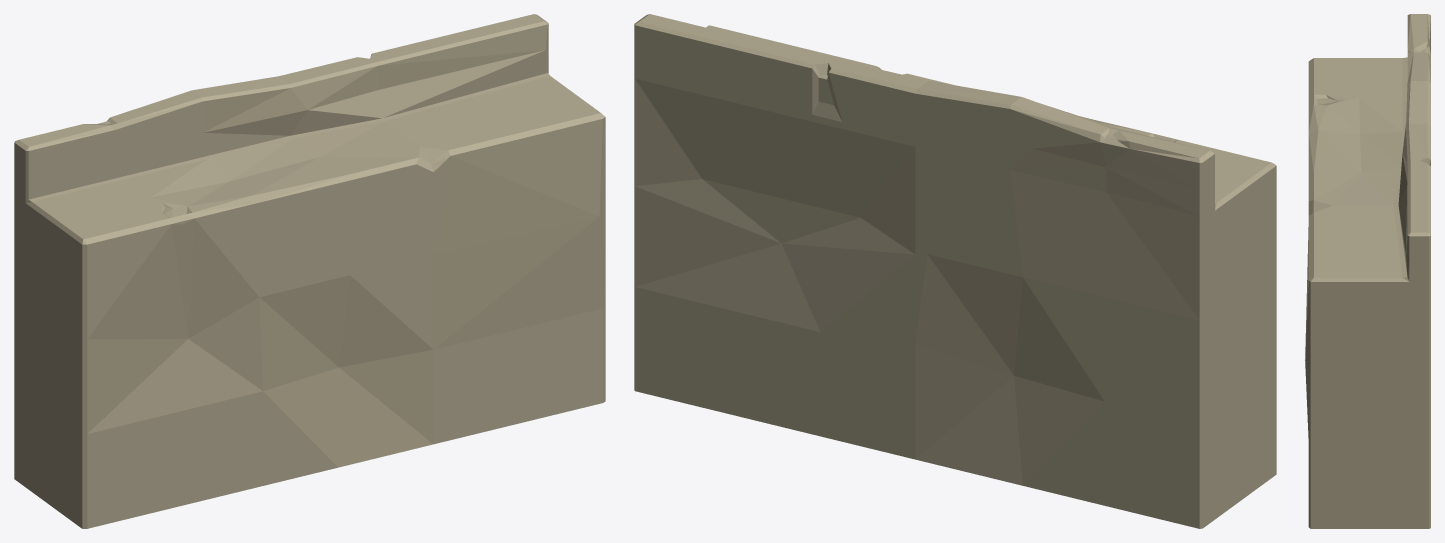
File: Wall_small_1.fbx
3 views of the same model, side by side, from view 1: azimuth 30°, elevation 25°; view 2: azimuth 150°, elevation 25°; view 3: azimuth 270°, elevation 25° (orthographic). The views are drawn at different scales.
Visible parts, largest first — view 1: Wall_small_1; view 2: Wall_small_1; view 3: Wall_small_1.
Part boxes in pixels (x1=…): Wall_small_1: x1=14, y1=14, x2=605, y2=528; Wall_small_1: x1=634, y1=14, x2=1276, y2=528; Wall_small_1: x1=1305, y1=14, x2=1430, y2=528.
Size of the model in its own units: 7.15 by 4.52 by 1.71.
